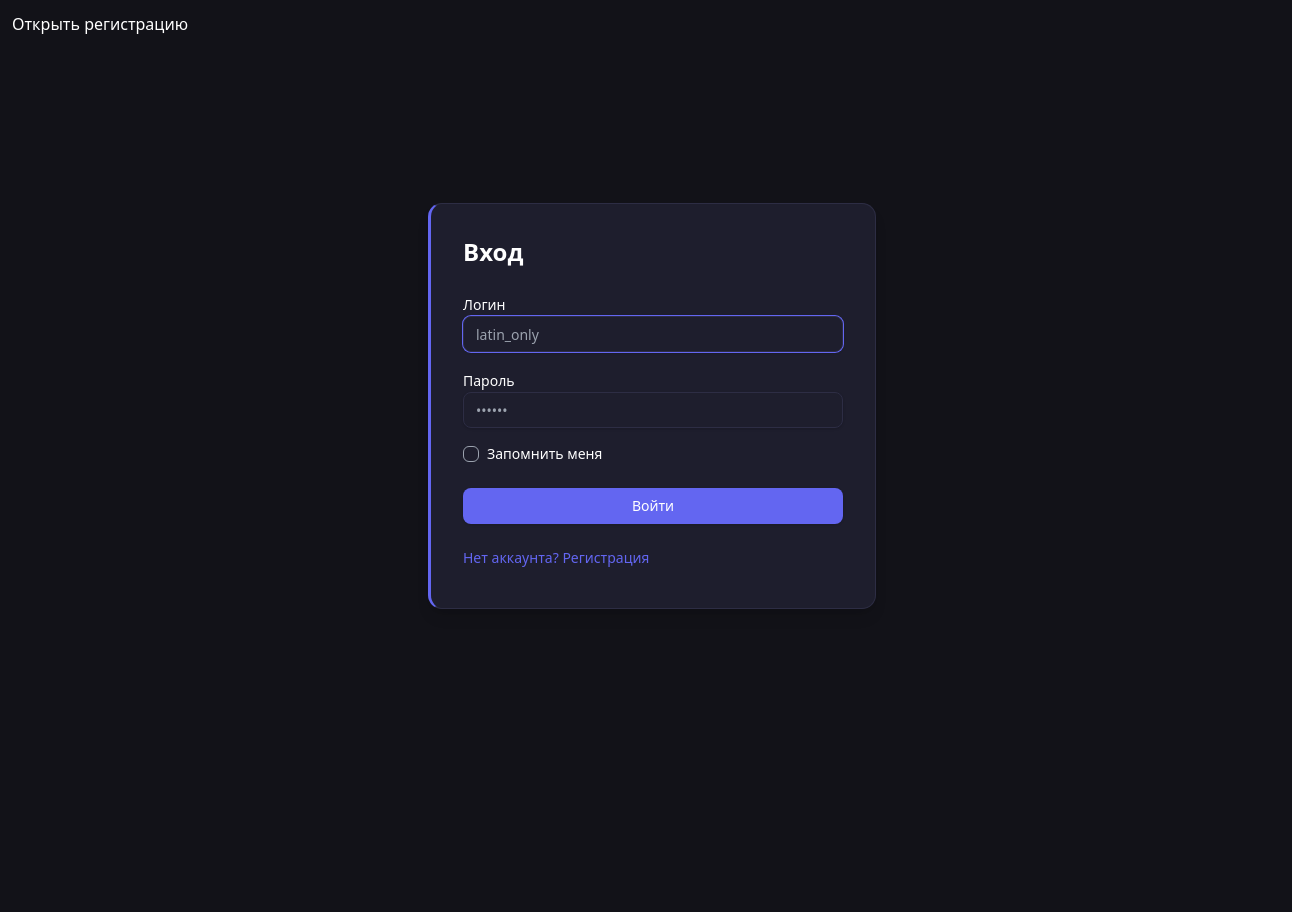
Scenario: updates registration and consent on navigation within the same login route
This screenshot has width=1292, height=912.
Expected: the button "Войти" is shown, 463,488 -> 843,524
Click the link "Открыть регистрацию" at (100, 24), box 12,13 -> 188,35
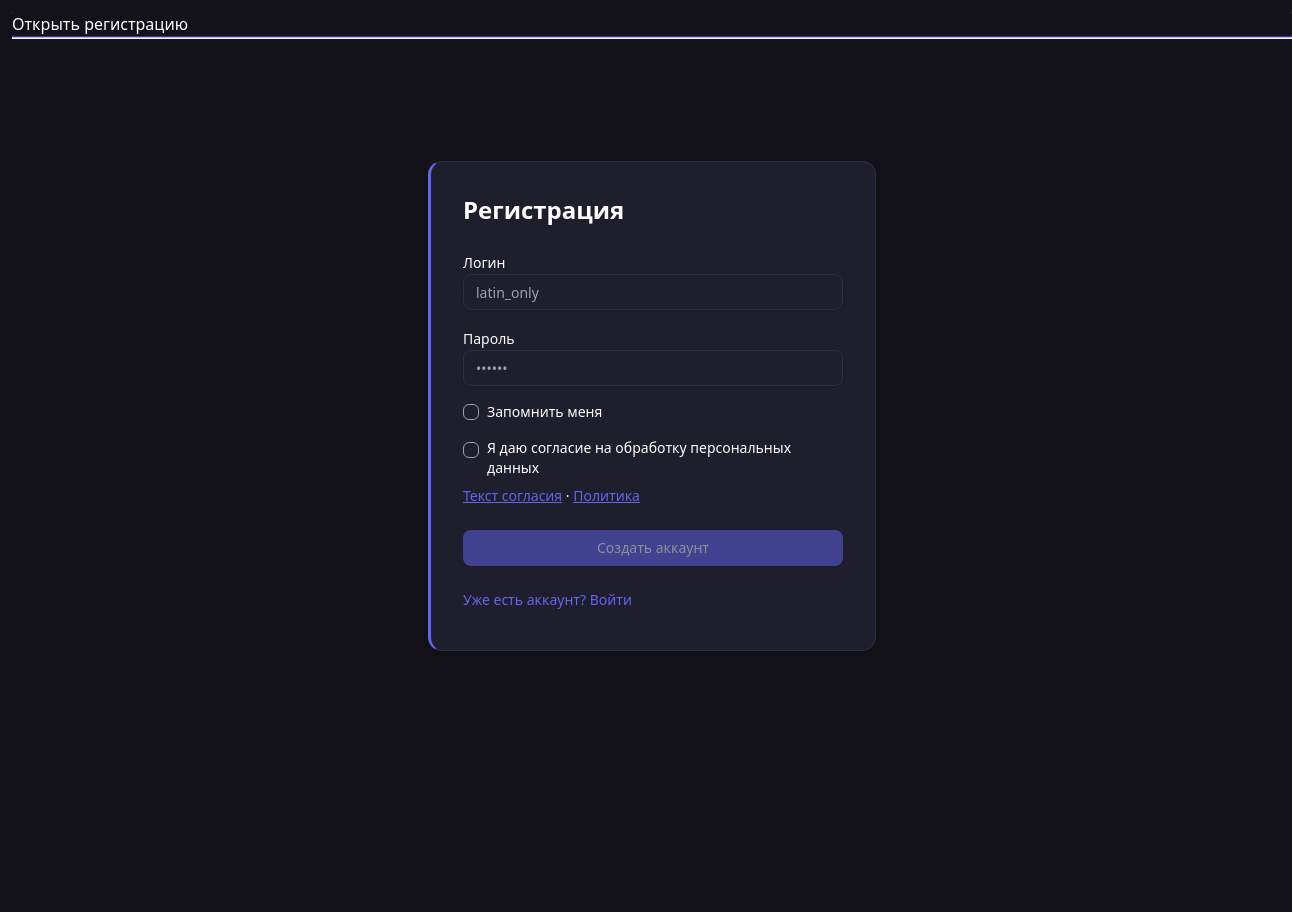
Expected: the heading "Регистрация" is shown, 463,193 -> 624,226
Expected: the checkbox labelled "Я даю согласие на обработку персональных данных" is not checked
Click the checkbox labelled "Я даю согласие на обработку персональных данных" at (471, 450), box 463,442 -> 479,458
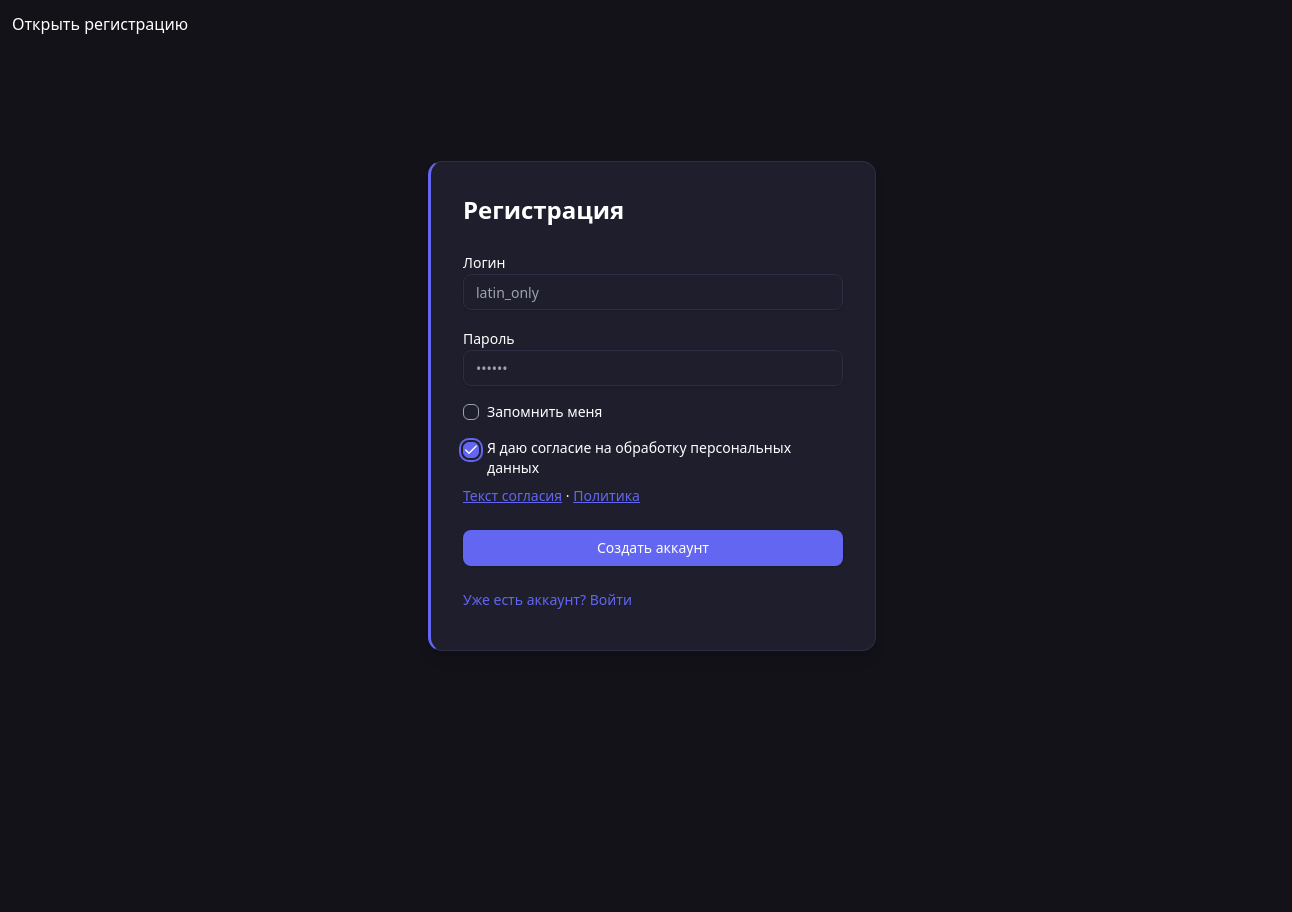
Expected: the checkbox labelled "Я даю согласие на обработку персональных данных" is checked, 463,442 -> 479,458
Click the button "Уже есть аккаунт? Войти" at (547, 600), box 463,582 -> 632,618
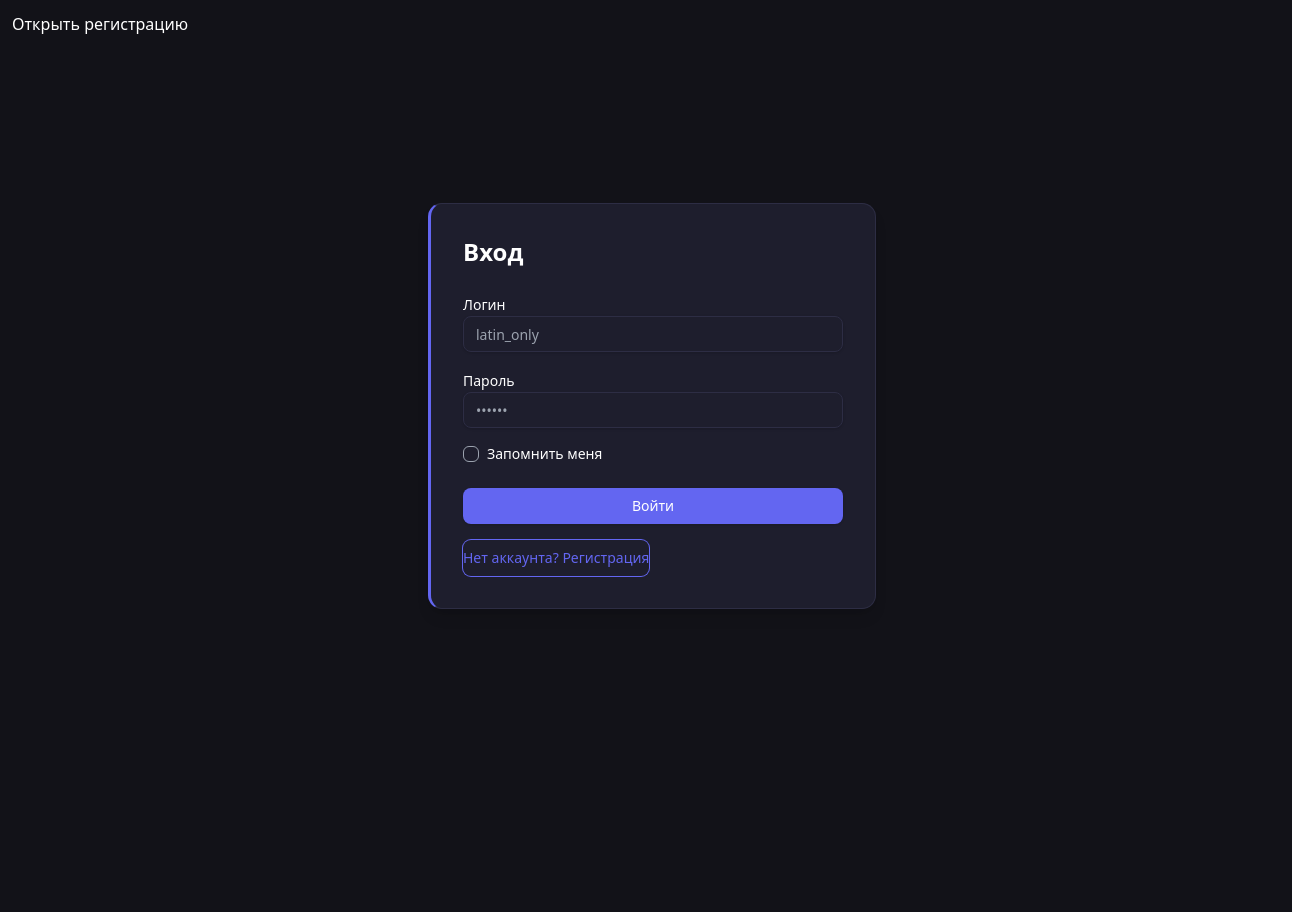
Expected: the label "Я даю согласие на обработку персональных данных" is gone
Click the button "Нет аккаунта? Регистрация" at (556, 558), box 463,540 -> 649,576
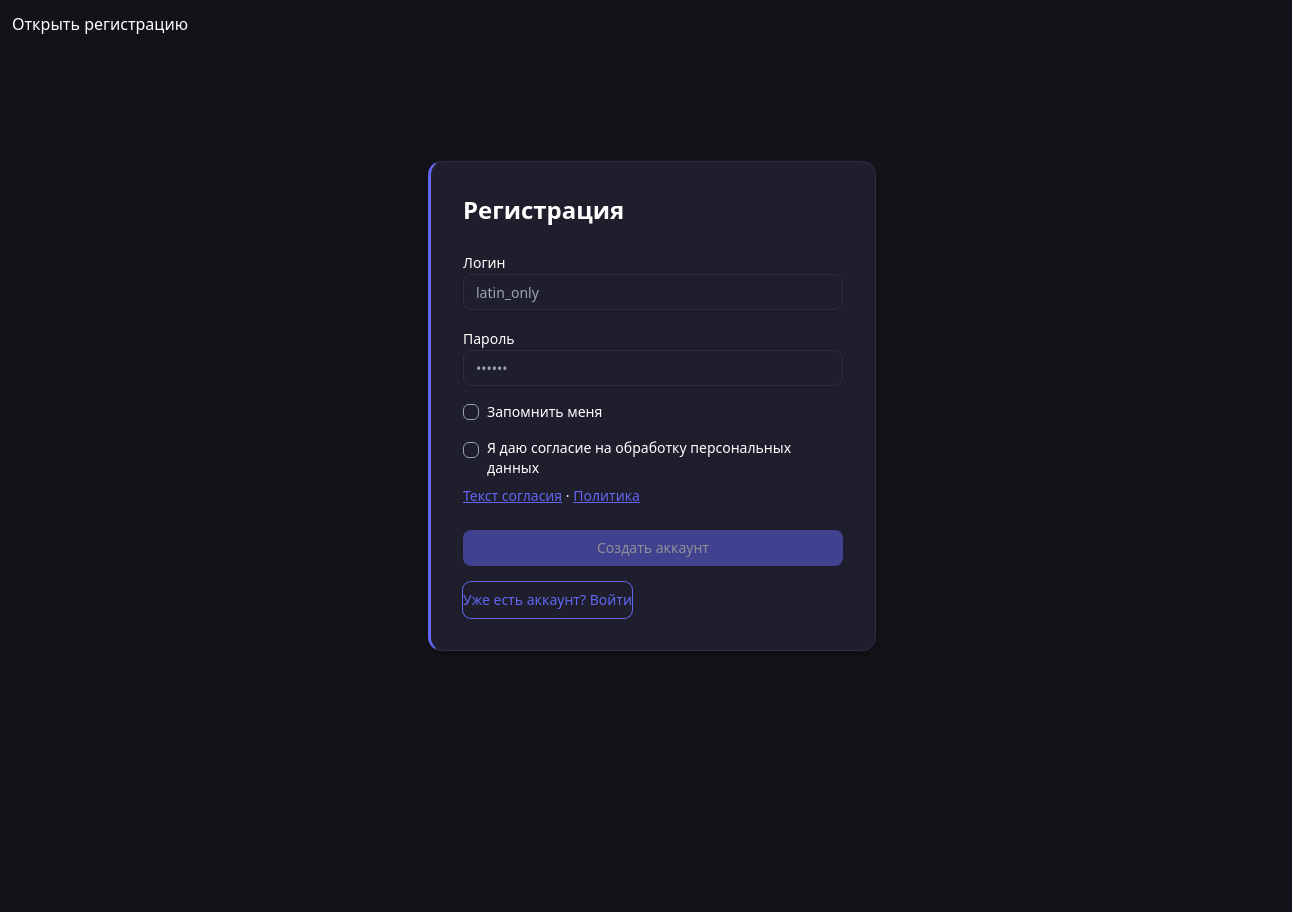
Expected: the checkbox labelled "Я даю согласие на обработку персональных данных" is not checked, 463,442 -> 479,458
